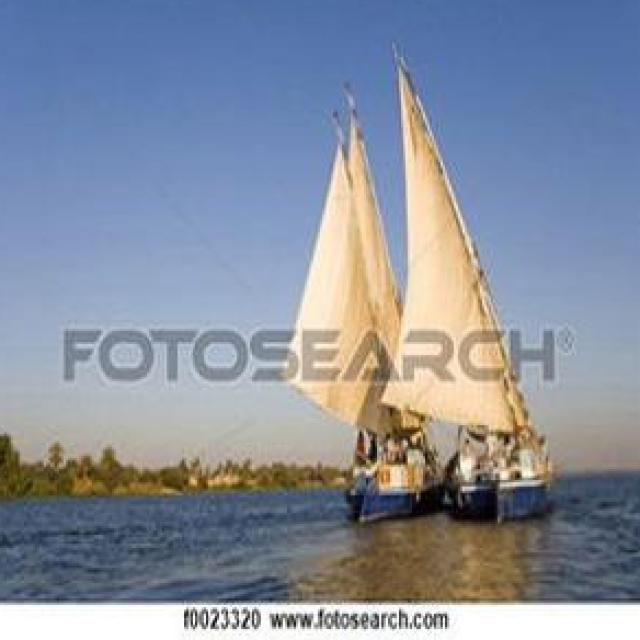sailboat: (266, 90, 451, 522), (381, 87, 553, 529)
